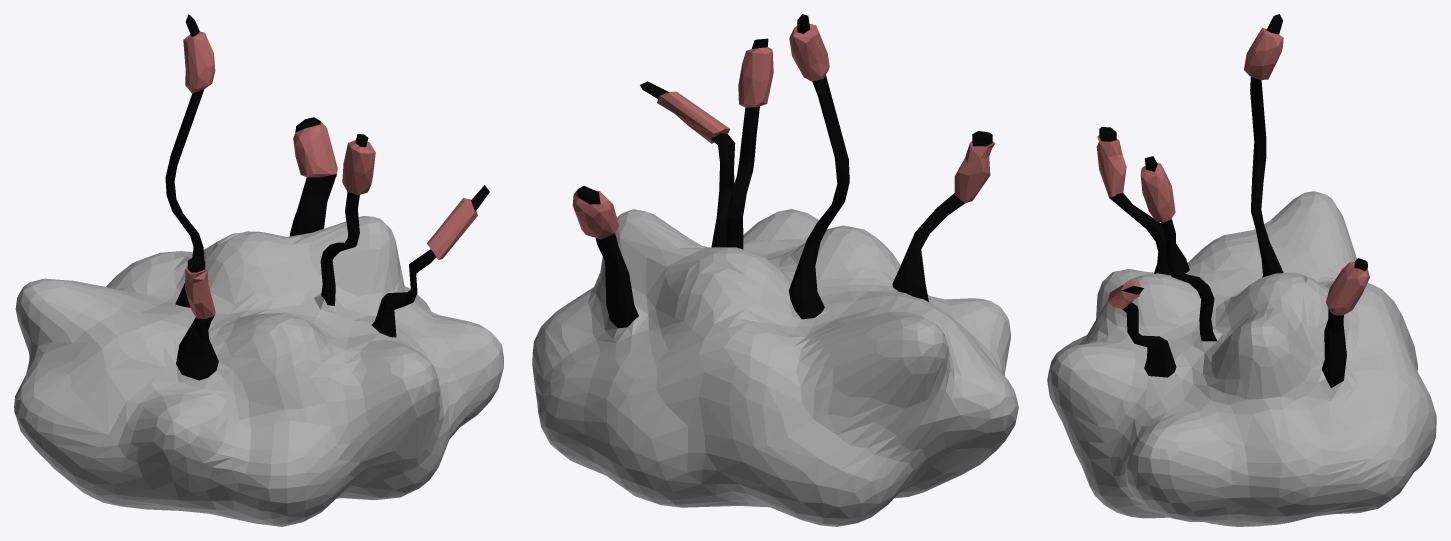
3 renders of one model, left to right at view 1: azimuth 30°, elevation 25°; view 2: azimuth 150°, elevation 25°; view 3: azimuth 270°, elevation 25°, orthographic. The views are drawn at different scales.
Visible parts, largest first — view 1: P18_Z:Group57470; view 2: P18_Z:Group57470; view 3: P18_Z:Group57470.
Part boxes in pixels (x1,y1,x2,y2): P18_Z:Group57470: (14, 14, 503, 526); P18_Z:Group57470: (532, 14, 1018, 526); P18_Z:Group57470: (1047, 14, 1436, 526).
Size of the model in its own units: 2.23 by 2.31 by 1.8.
